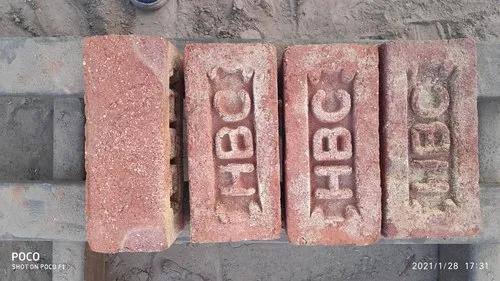brick: (186, 45, 279, 245), (82, 35, 166, 253), (288, 43, 378, 246), (386, 42, 476, 238)
